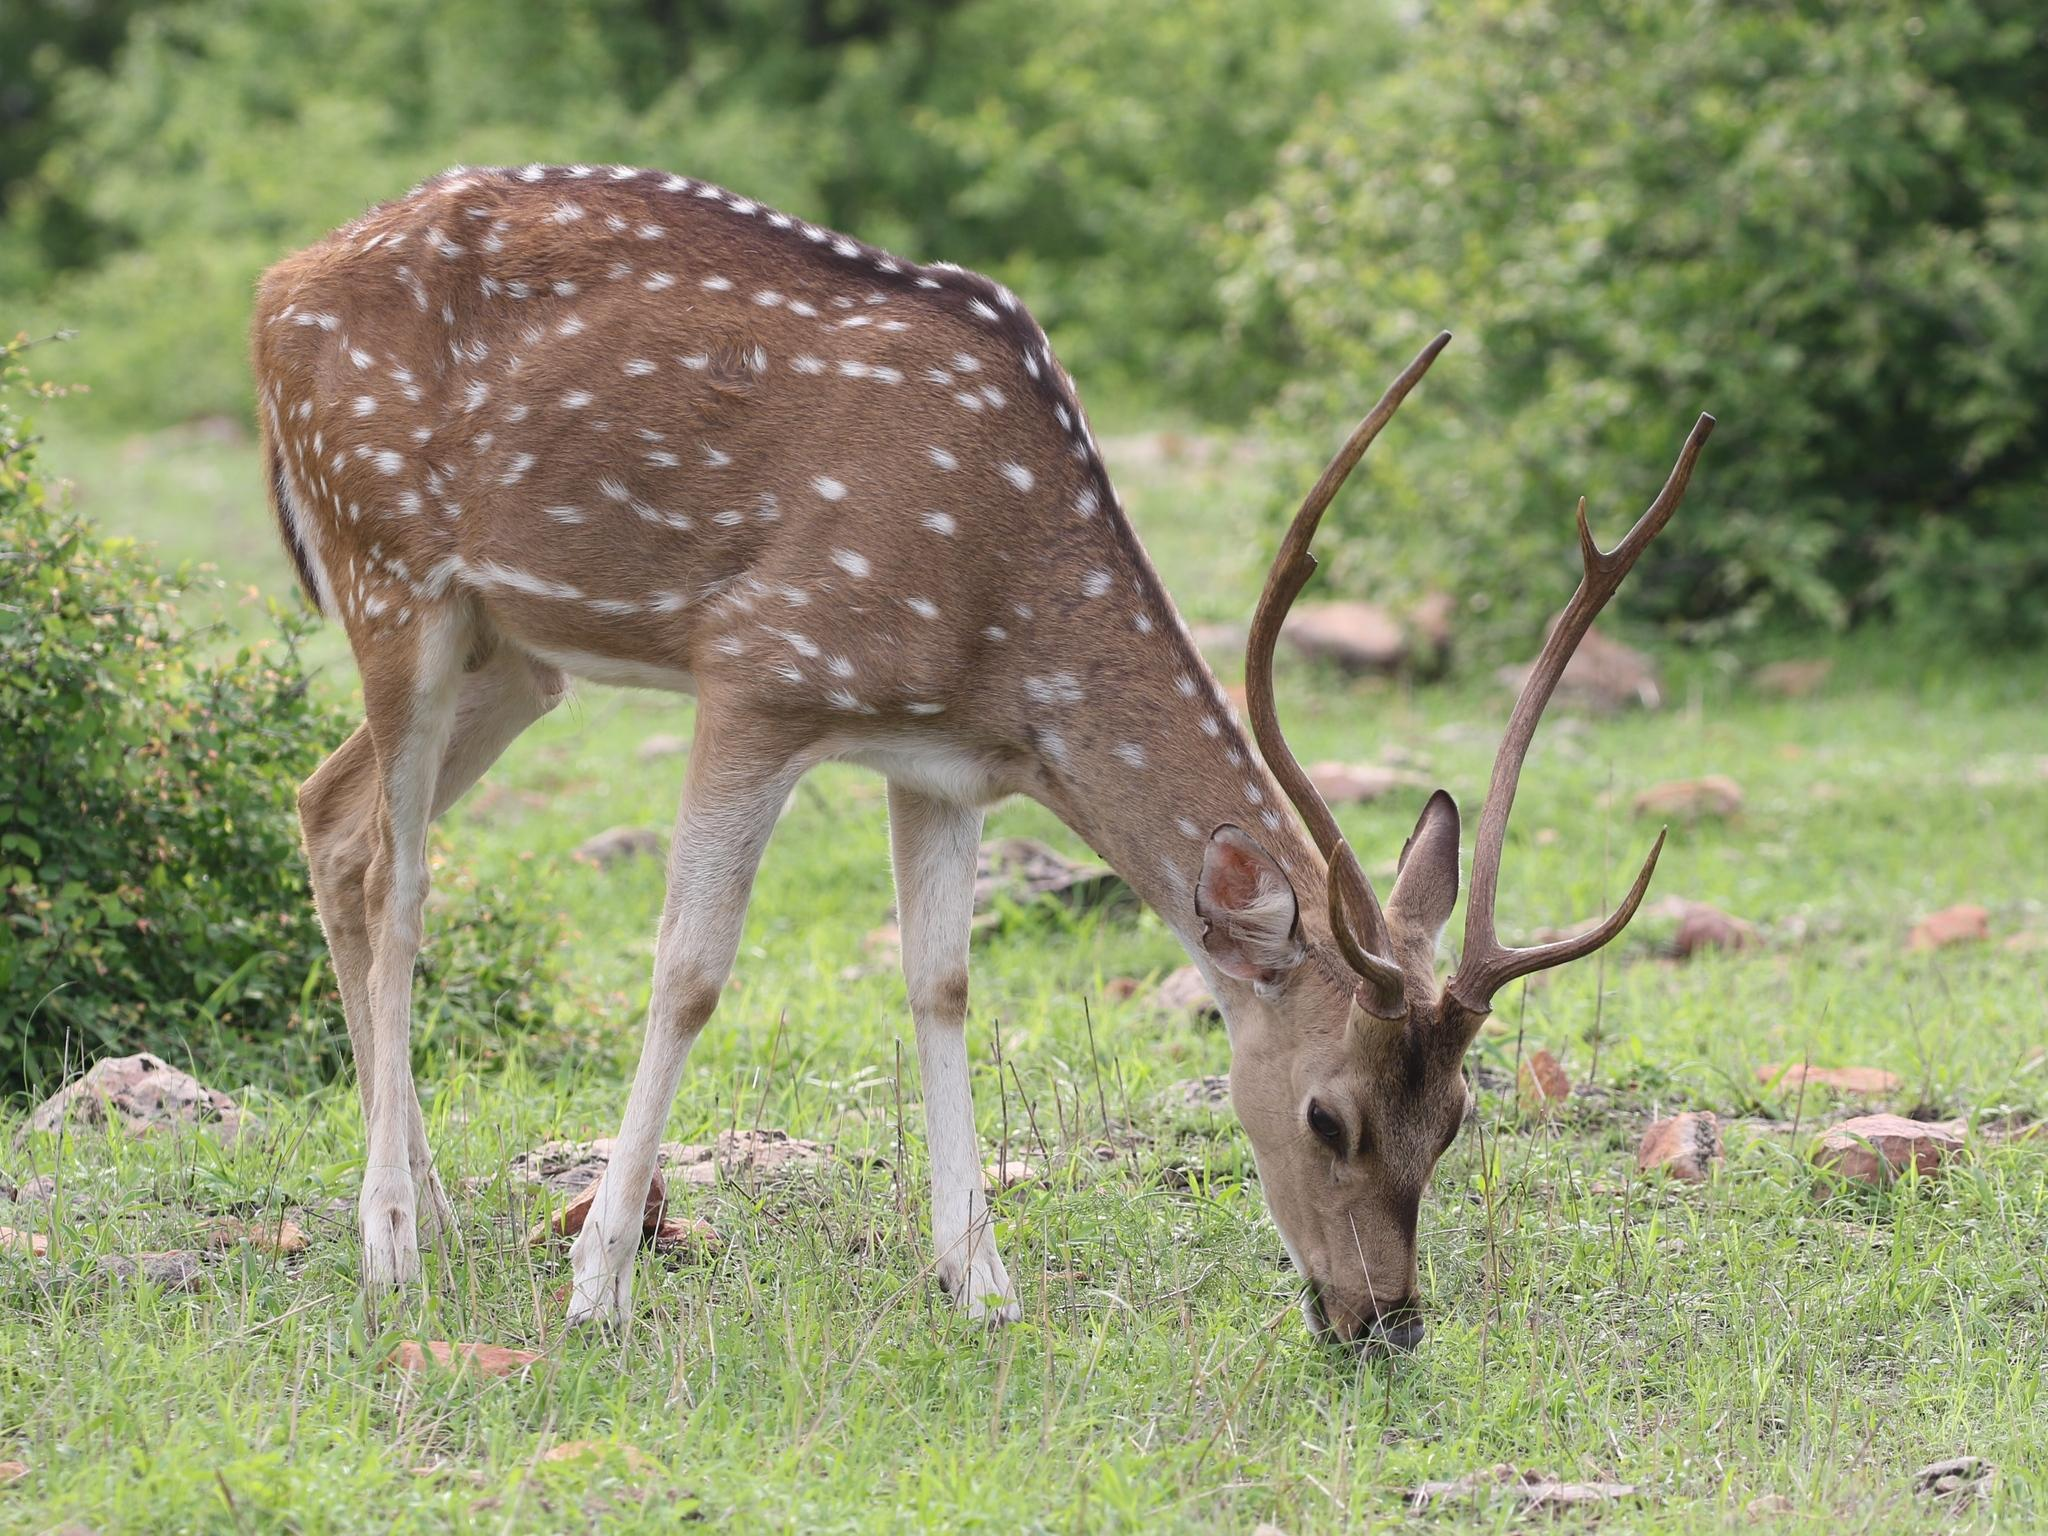Deer: (252, 165, 1713, 1347)
